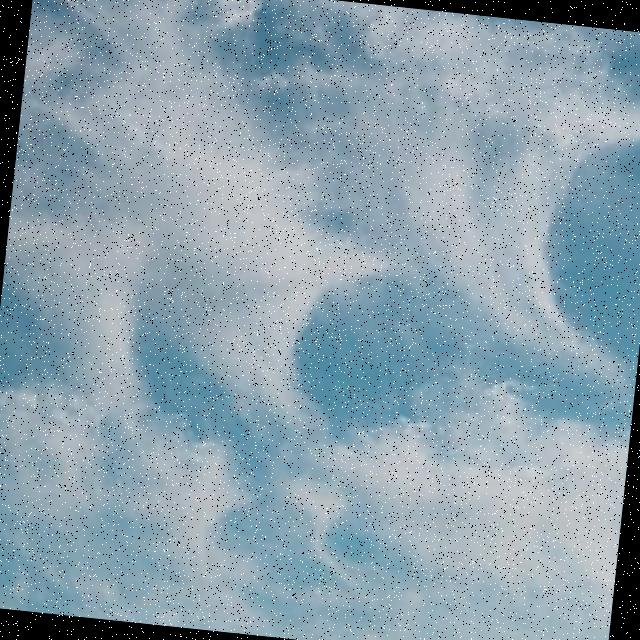Cc: (1, 1, 640, 513)
